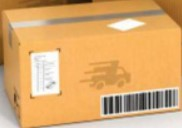stock: (3, 1, 182, 126)
